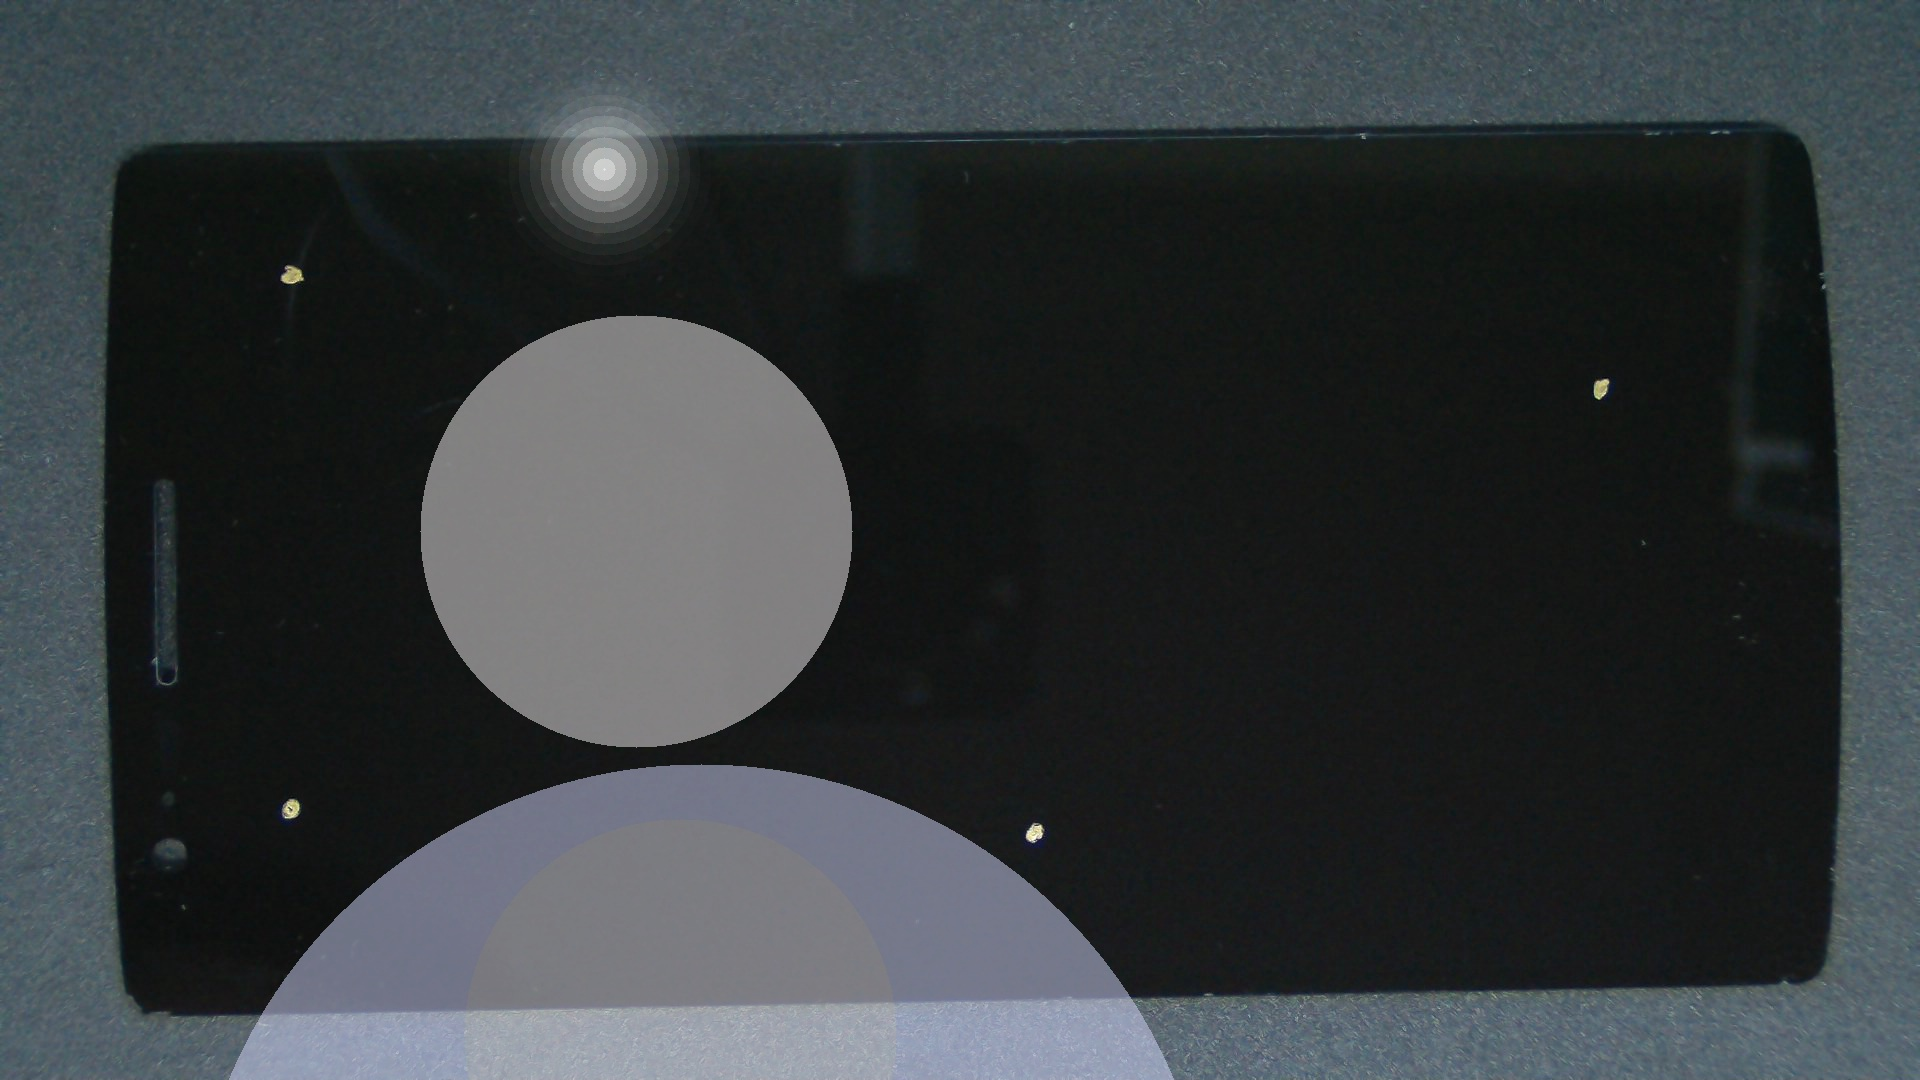oil: (517, 409, 1547, 1080), (800, 187, 1920, 564), (148, 395, 433, 1080), (144, 130, 427, 396)
